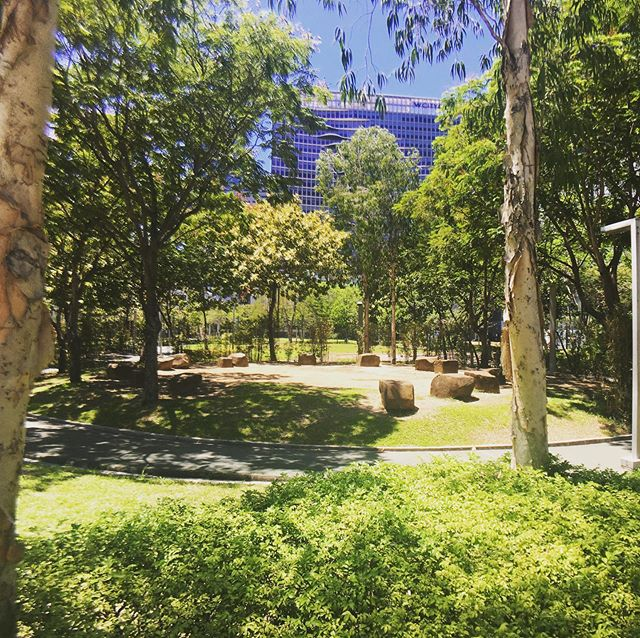building: (287, 89, 449, 224)
grass: (42, 478, 640, 638)
tree: (50, 1, 296, 385), (433, 1, 640, 424), (312, 124, 420, 335)
